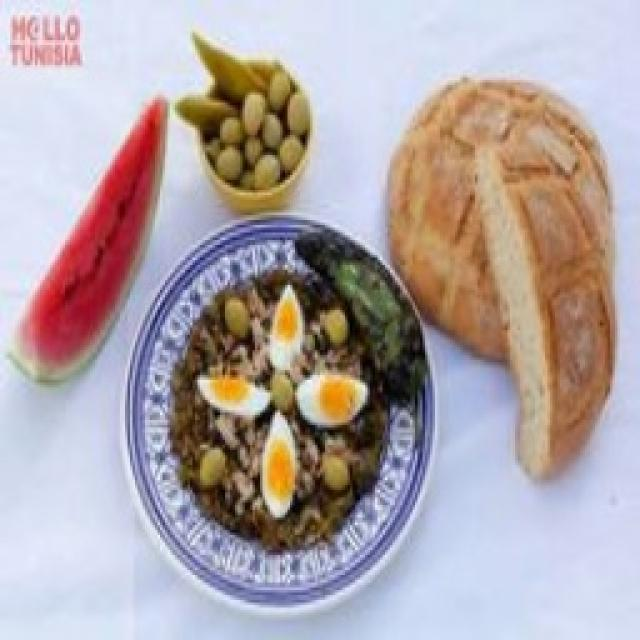Salade mechweya: (170, 231, 426, 549)
